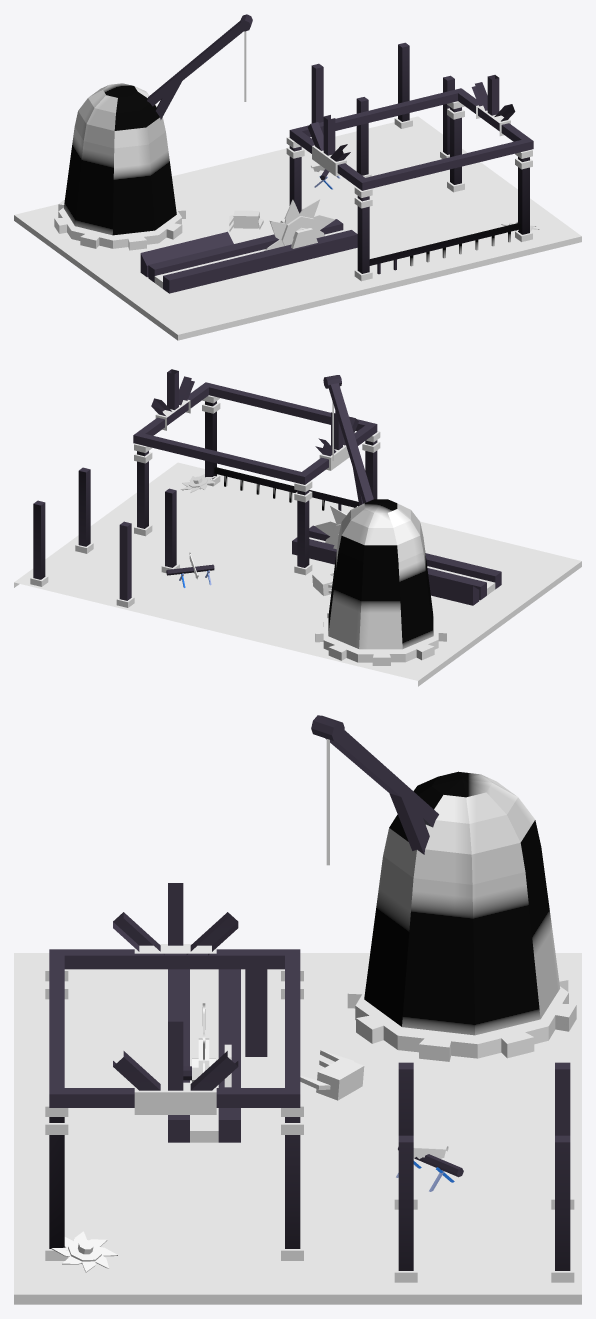
File: LumberMillPhase02.fbx
3 views of the same model, one above another, from view 1: azimuth 30°, elevation 25°; view 2: azimuth 150°, elevation 25°; view 3: azimuth 270°, elevation 25° (orthographic). The views are drawn at different scales.
Parts seen in each view (by area): view 1: LumberMillPhase02; view 2: LumberMillPhase02; view 3: LumberMillPhase02.
Part boxes in pixels (x1,y1,x2,y2): LumberMillPhase02: (14,14,581,340); LumberMillPhase02: (14,369,581,686); LumberMillPhase02: (14,715,581,1304).
Bounding box in the file's own units: 10.13 × 5.58 × 7.11.
